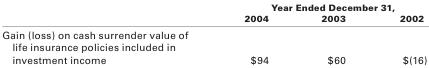table: (1, 1, 426, 65)
table column: (1, 1, 215, 65), (215, 1, 294, 65), (294, 1, 371, 65), (371, 1, 426, 65)
table column header: (1, 1, 426, 25)
table row: (1, 25, 426, 65), (1, 12, 426, 25), (1, 1, 426, 12)
table spanning cell: (215, 1, 426, 12)
